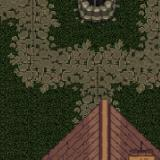Hide: (59, 0, 137, 38)
